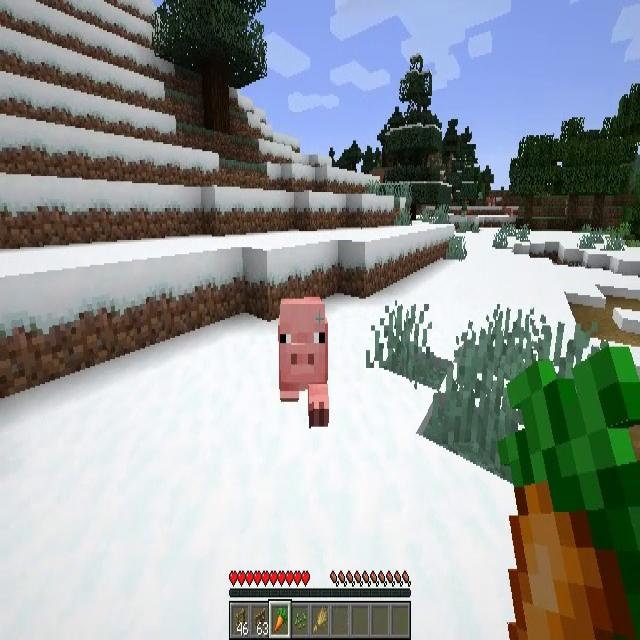pig: (279, 297, 328, 428)
